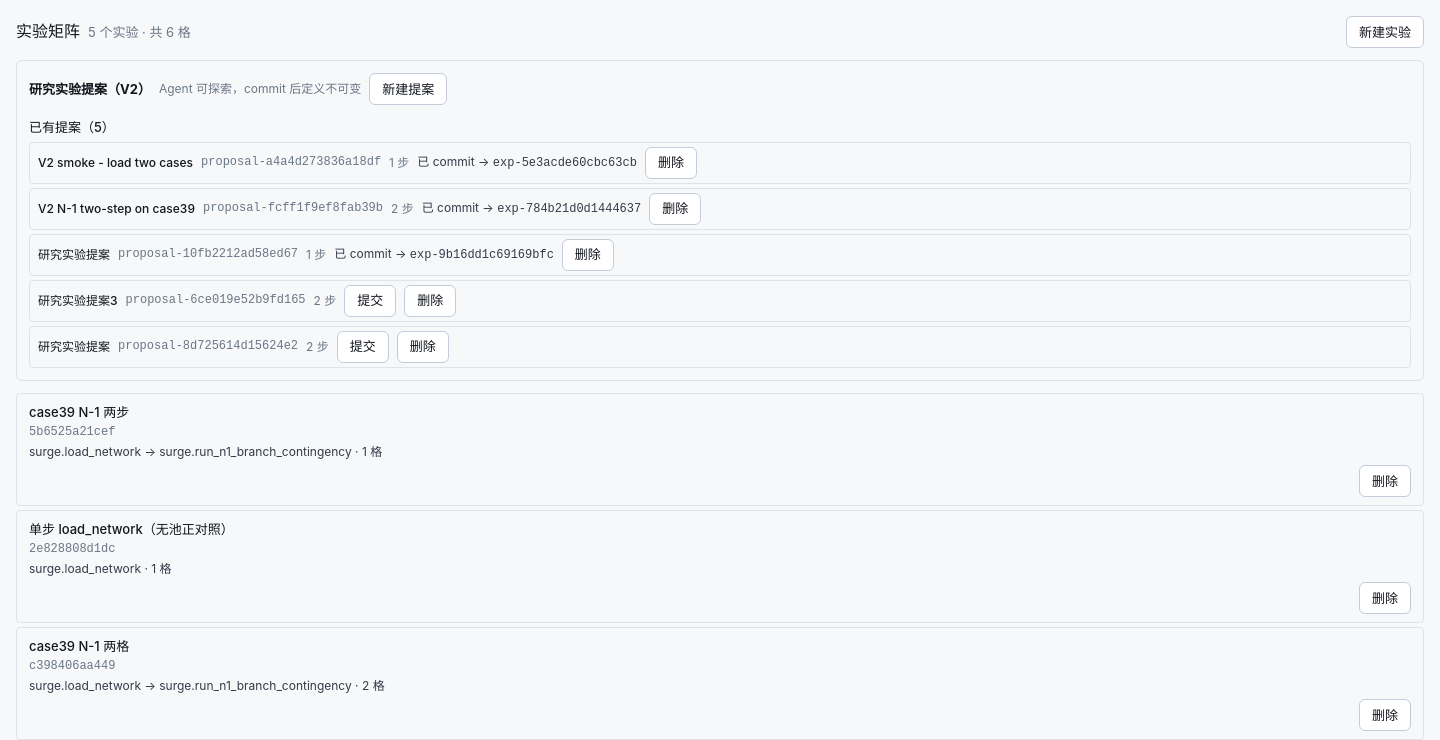
ExperimentsView › ★ 约束 3：如实写明串行，且**不提供**并发控件
Click the text "case39 N-1 两步" at (79, 412), box [29, 404, 129, 420]
(page scrolled)
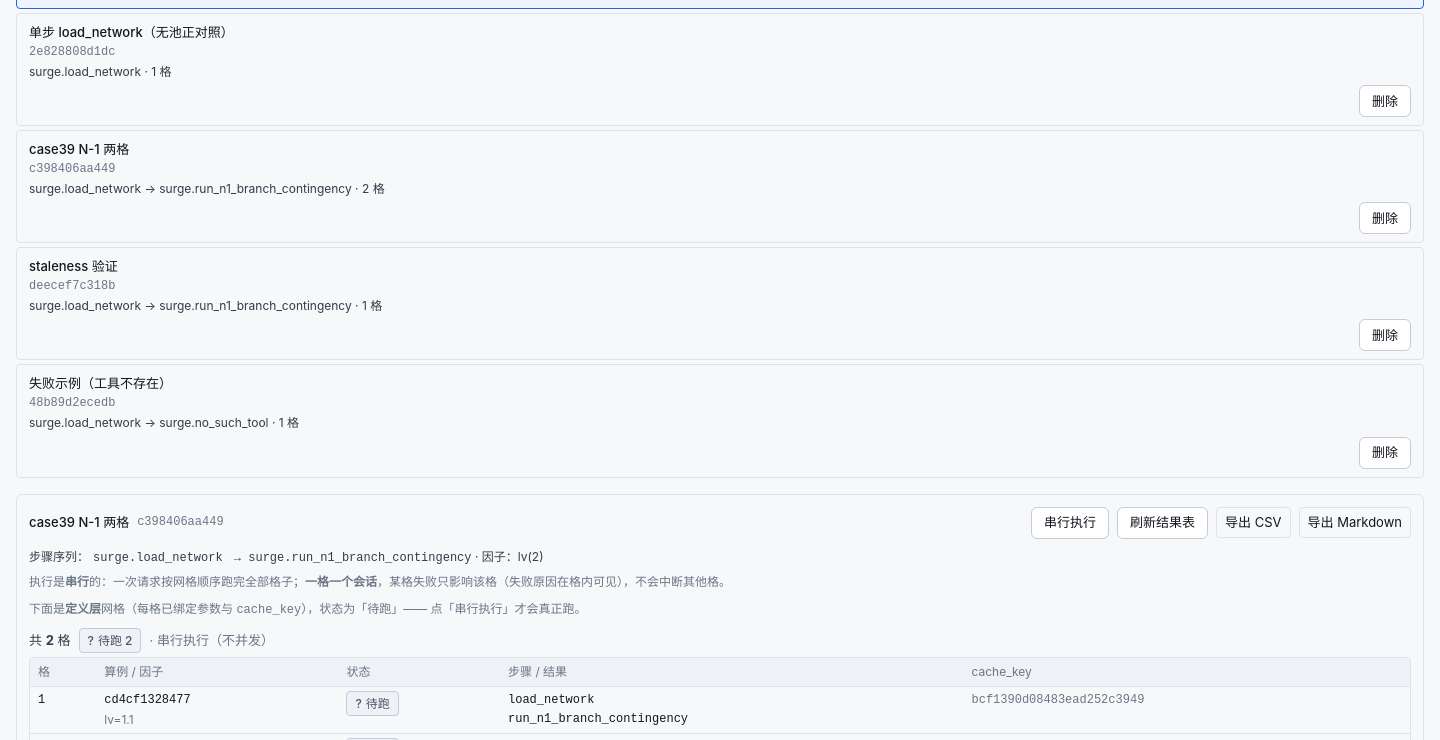
expect the text "· 串行执行（不并发）" is shown: met, box [150, 630, 274, 651]
expect the text "一格一个会话" is shown: met, box [305, 574, 377, 589]
